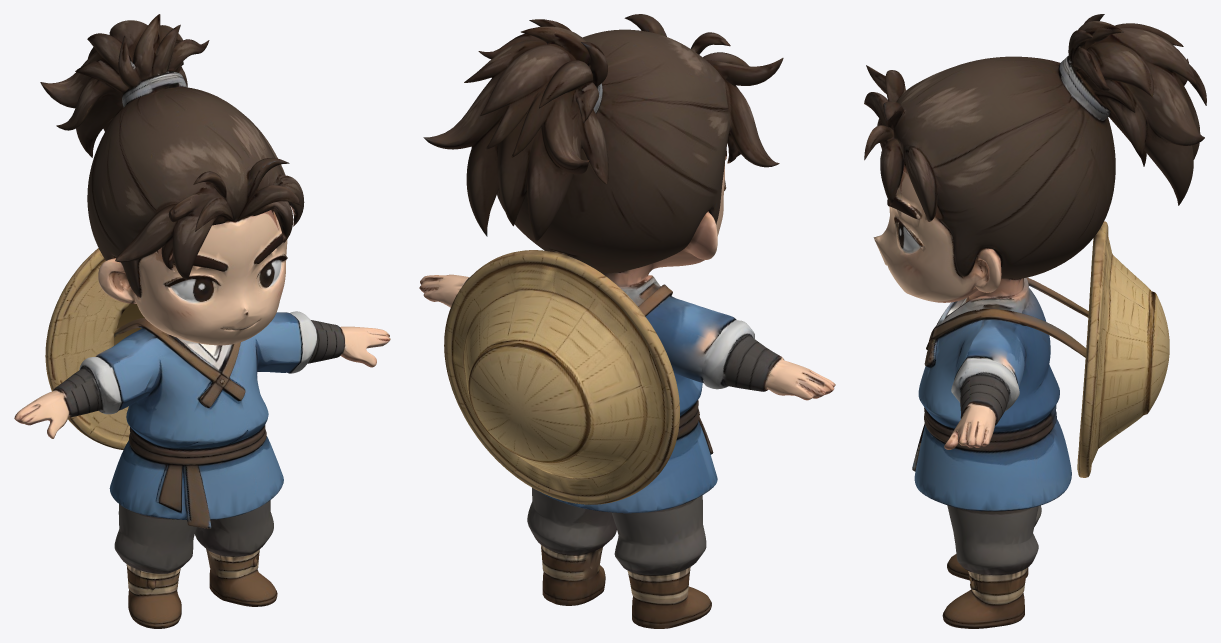
File: lenhhosung.glb
3 views of the same model, side by side, from view 1: azimuth 30°, elevation 25°; view 2: azimuth 150°, elevation 25°; view 3: azimuth 270°, elevation 25° (orthographic). The views are drawn at different scales.
Visible parts, largest first — view 1: tripo_node_0d3ed46d-c337-4b45-8aa8-b4964f432c44; view 2: tripo_node_0d3ed46d-c337-4b45-8aa8-b4964f432c44; view 3: tripo_node_0d3ed46d-c337-4b45-8aa8-b4964f432c44.
Part boxes in pixels (x1=…): tripo_node_0d3ed46d-c337-4b45-8aa8-b4964f432c44: x1=14, y1=14, x2=390, y2=628; tripo_node_0d3ed46d-c337-4b45-8aa8-b4964f432c44: x1=419, y1=14, x2=835, y2=628; tripo_node_0d3ed46d-c337-4b45-8aa8-b4964f432c44: x1=864, y1=14, x2=1206, y2=628.
Size of the model in its own units: 0.7138 by 1 by 0.5384.
Materials: 1 (1 with a texture image).
